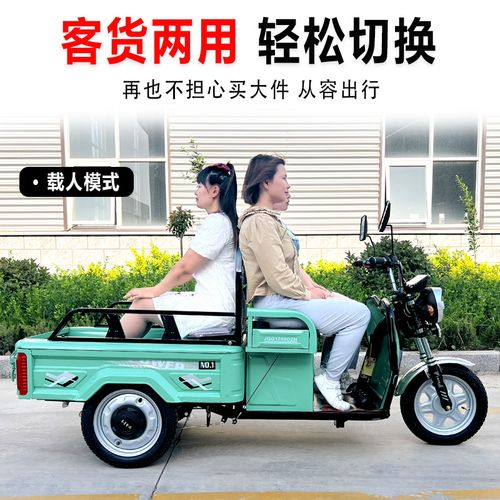driver: (235, 141, 377, 434)
overloading: (28, 130, 486, 465)
passenger: (87, 141, 249, 348)
